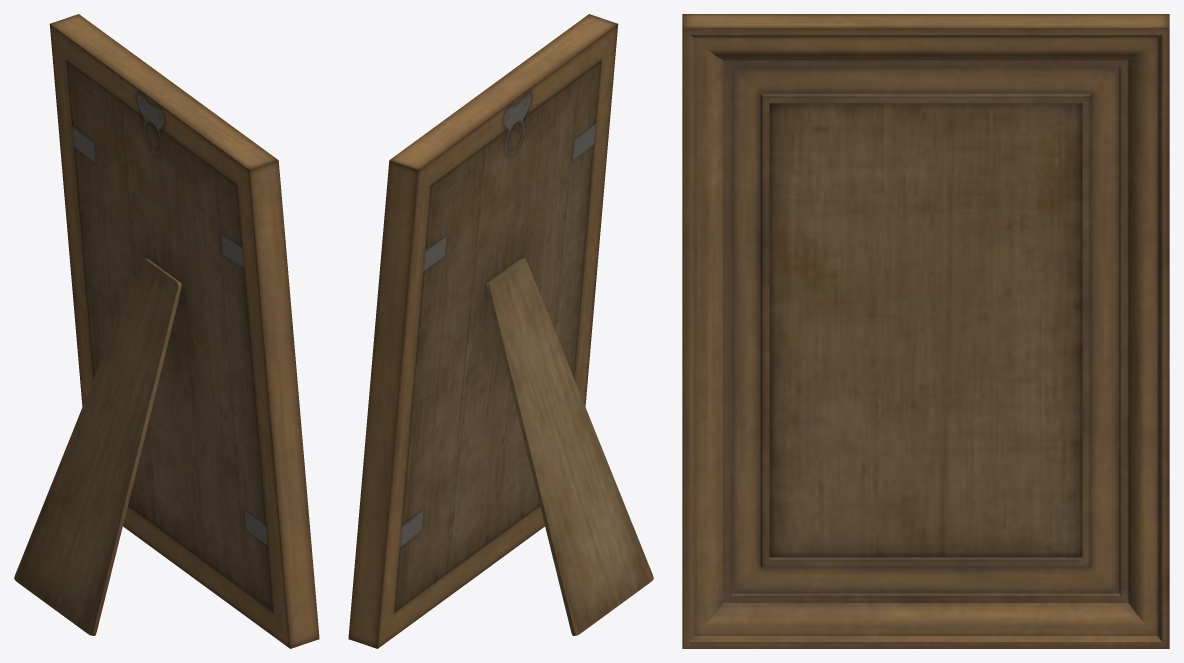
File: photo-frame-a.glb
3 views of the same model, side by side, from view 1: azimuth 30°, elevation 25°; view 2: azimuth 150°, elevation 25°; view 3: azimuth 270°, elevation 25° (orthographic). The views are drawn at different scales.
Parts seen in each view (by area): view 1: photo-frame-a; view 2: photo-frame-a; view 3: photo-frame-a.
Part boxes in pixels (<box>): photo-frame-a: <box>14,14,319,648</box>; photo-frame-a: <box>348,14,653,648</box>; photo-frame-a: <box>682,14,1169,648</box>.
Bounding box in the file's own units: 0.0763 × 0.2146 × 0.1581.
Materials: 1 (1 with a texture image).
